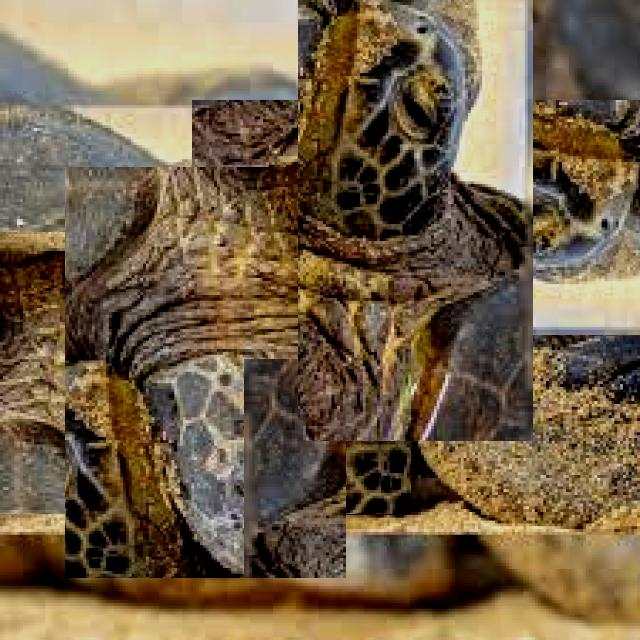Sea turtle: (32, 200, 379, 546), (245, 47, 587, 388)
